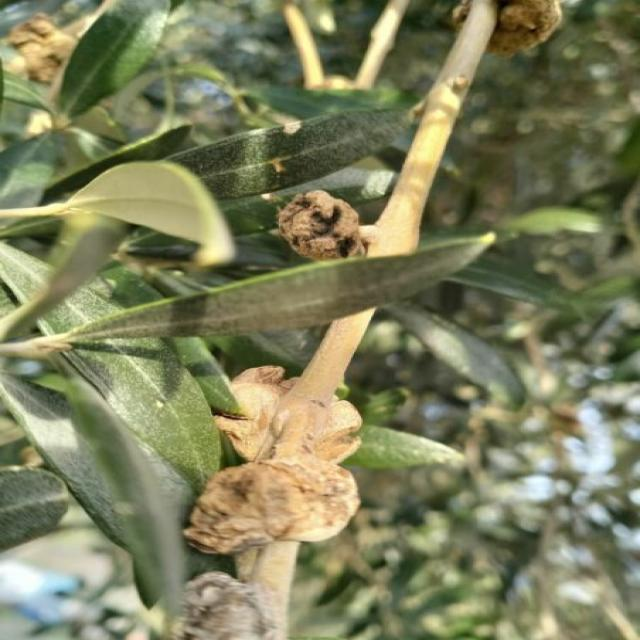Tuberculosis: (185, 366, 364, 554), (278, 190, 367, 259), (487, 0, 561, 57)
